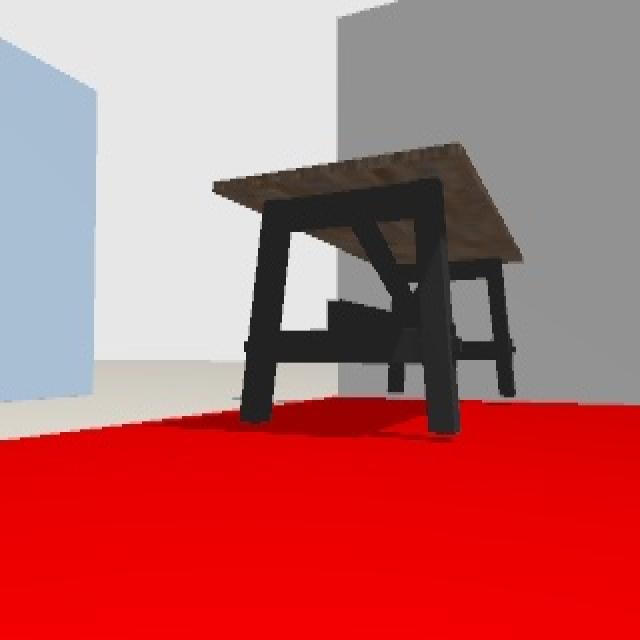dining: (213, 137, 525, 430)
